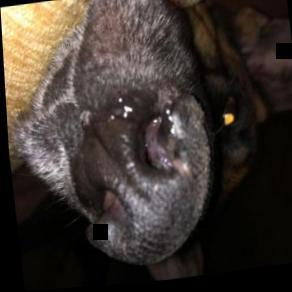nasal_discharge: (93, 83, 194, 190)
